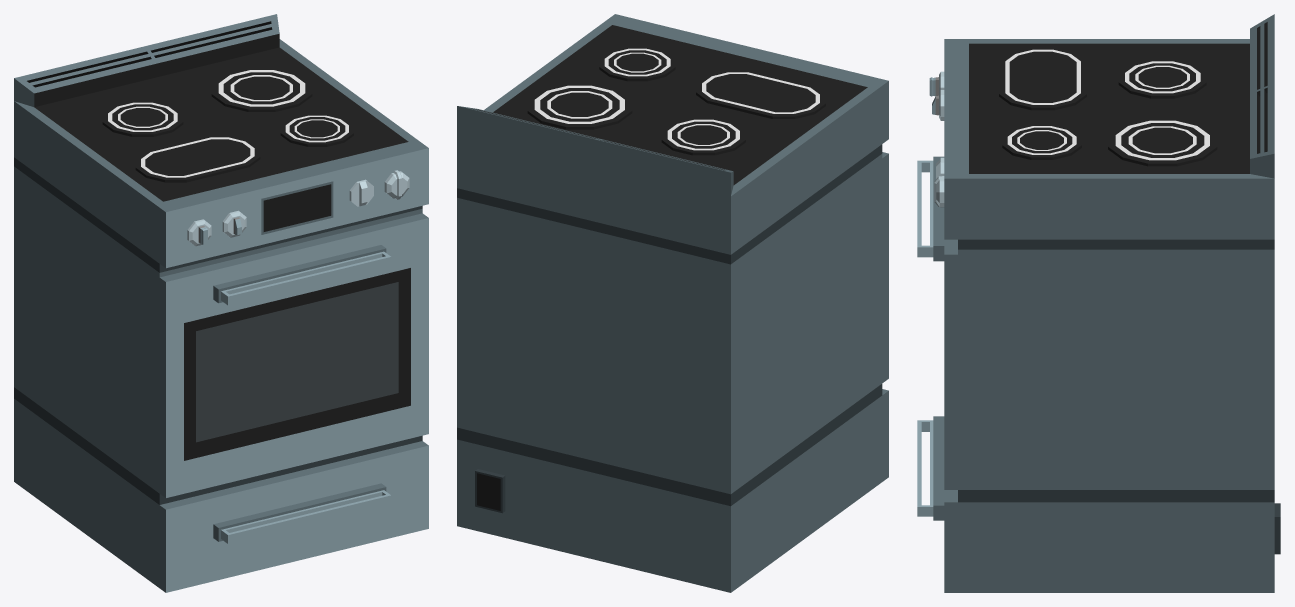
File: KA-F600_Stove_V1.fbx
The picture shows the model from 3 angles, left to right: view 1: azimuth 30°, elevation 25°; view 2: azimuth 150°, elevation 25°; view 3: azimuth 270°, elevation 25°; orthographic projection. The views are drawn at different scales.
Visible parts, largest first — view 1: KA-F600_Stove_V1, KA-F600_Stove_V1_Door, KA-F600_Stove_V1_Tray, KA-F600_Stove_V1_KnobV4; view 2: KA-F600_Stove_V1, KA-F600_Stove_V1_Door, KA-F600_Stove_V1_Tray; view 3: KA-F600_Stove_V1, KA-F600_Stove_V1_Door, KA-F600_Stove_V1_Tray.
Part boxes in pixels (left/top/right/bottom): KA-F600_Stove_V1: left=14, top=14, right=428, bottom=587; KA-F600_Stove_V1_Door: left=159, top=213, right=428, bottom=497; KA-F600_Stove_V1_Tray: left=159, top=441, right=428, bottom=592; KA-F600_Stove_V1_KnobV4: left=384, top=170, right=409, bottom=199; KA-F600_Stove_V1: left=457, top=14, right=888, bottom=592; KA-F600_Stove_V1_Door: left=882, top=152, right=888, bottom=382; KA-F600_Stove_V1_Tray: left=882, top=389, right=888, bottom=481; KA-F600_Stove_V1: left=944, top=14, right=1280, bottom=592; KA-F600_Stove_V1_Door: left=917, top=156, right=957, bottom=489; KA-F600_Stove_V1_Tray: left=917, top=416, right=957, bottom=592.
Size of the model in its own units: 60 by 88 by 65.92.
